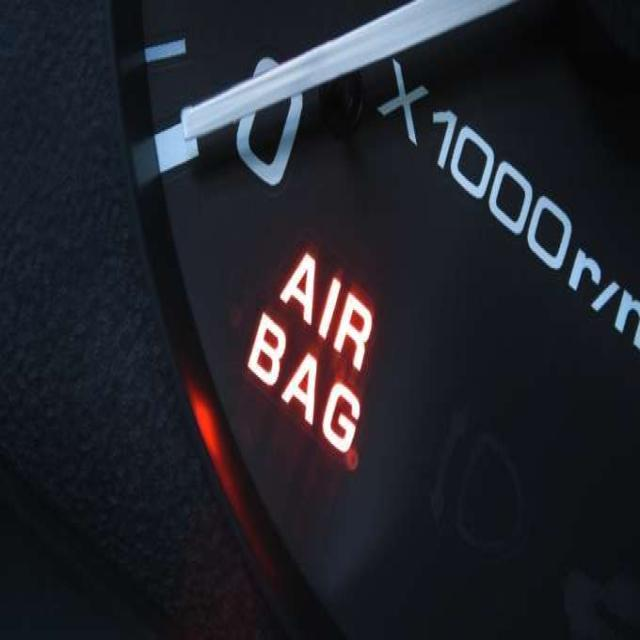SRS-Airbag: (246, 248, 374, 456)
